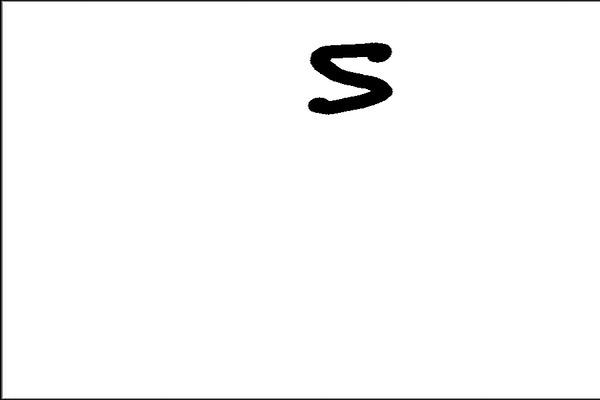S: (299, 34, 403, 122)
